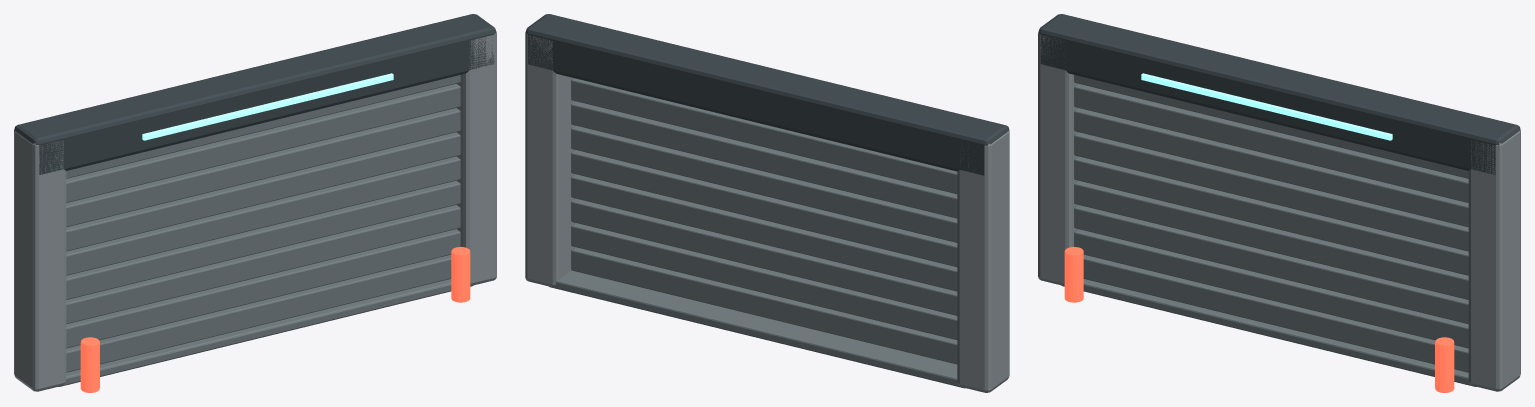
File: GarageDoor_A.fbx
3 views of the same model, side by side, from view 1: azimuth 30°, elevation 25°; view 2: azimuth 150°, elevation 25°; view 3: azimuth 330°, elevation 25° (orthographic).
Visible parts, largest first — view 1: Garage Header, Garage Left Pier, Garage Door Slat.003, Garage Door Slat.002, Garage Door Slat.004, Garage Door Slat.006, Garage Door Slat.007, Garage Door Slat.005, Garage Door Slat.001, Garage Door Slat, Garage Right Pier, Garage Threshold (+4 smaller); view 2: Garage Header, Garage Left Pier, Garage Right Pier, Garage Door Slat, Garage Door Slat.002, Garage Door Slat.003, Garage Door Slat.004, Garage Door Slat.006, Garage Door Slat.001, Garage Door Slat.005, Garage Door Slat.007, Garage Threshold; view 3: Garage Header, Garage Right Pier, Garage Door Slat.003, Garage Door Slat.002, Garage Door Slat.004, Garage Door Slat.006, Garage Door Slat.007, Garage Door Slat.005, Garage Door Slat.001, Garage Door Slat, Garage Left Pier, Garage Threshold (+4 smaller).
Boxes of the visible parts, x1,y1,x2,y2 form: Garage Header: (14,14,496,174); Garage Left Pier: (14,128,66,391); Garage Door Slat.003: (66,180,460,299); Garage Door Slat.002: (66,205,460,324); Garage Door Slat.004: (66,156,460,275); Garage Door Slat.006: (66,108,460,227); Garage Door Slat.007: (66,83,460,202); Garage Door Slat.005: (66,132,460,251); Garage Door Slat.001: (66,229,460,348); Garage Door Slat: (66,254,451,372); Garage Right Pier: (457,33,496,285); Garage Threshold: (58,279,473,386); Garage Header: (525,14,1008,175); Garage Left Pier: (957,129,1009,392); Garage Right Pier: (525,32,574,287); Garage Door Slat: (571,247,957,364); Garage Door Slat.002: (571,198,957,315); Garage Door Slat.003: (571,174,957,291); Garage Door Slat.004: (571,150,957,266); Garage Door Slat.006: (571,101,957,218); Garage Door Slat.001: (571,223,957,339); Garage Door Slat.005: (571,125,957,242); Garage Door Slat.007: (571,78,957,193); Garage Threshold: (549,270,965,388); Garage Header: (1038,14,1520,174); Garage Right Pier: (1468,128,1520,391); Garage Door Slat.003: (1074,180,1468,299); Garage Door Slat.002: (1074,205,1468,324); Garage Door Slat.004: (1074,156,1468,275); Garage Door Slat.006: (1074,108,1468,227); Garage Door Slat.007: (1074,83,1468,202); Garage Door Slat.005: (1074,132,1468,251); Garage Door Slat.001: (1074,229,1468,348); Garage Door Slat: (1083,254,1468,372); Garage Left Pier: (1038,33,1077,285); Garage Threshold: (1061,279,1476,386).
Size of the model in its own units: 10.02 by 5.23 by 1.36.
